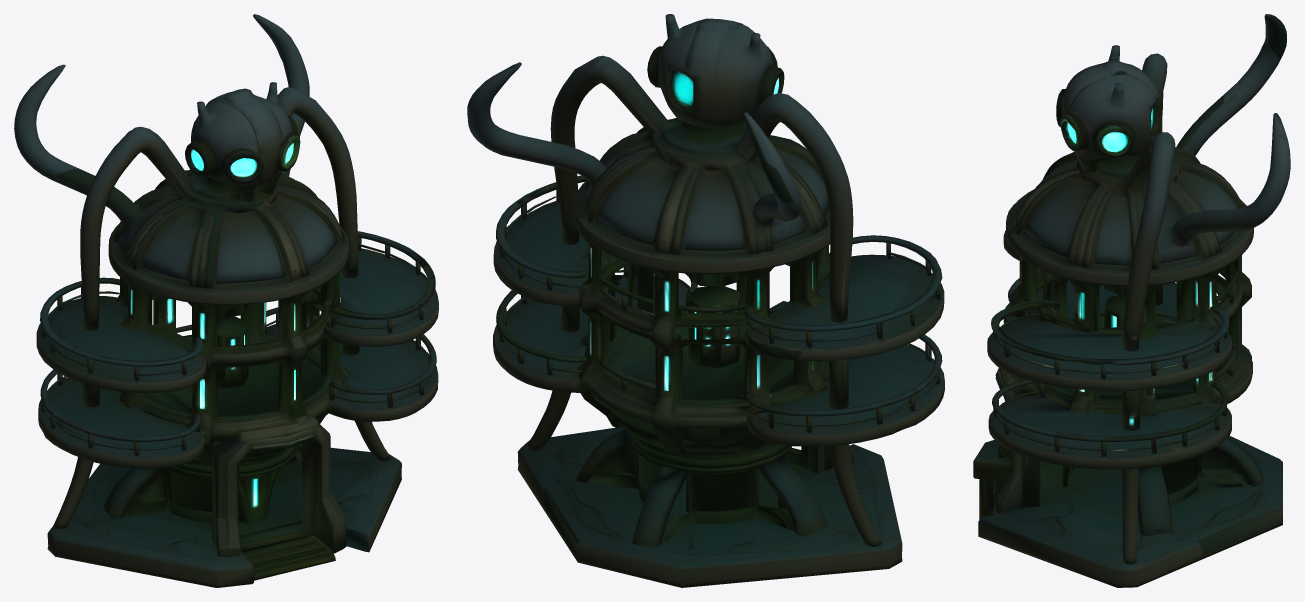
Rendered from VAL_EVIL_ALIEN_BASE_OS_MML_FINAL.glb.
The picture shows the model from 3 angles, left to right: view 1: azimuth 30°, elevation 25°; view 2: azimuth 150°, elevation 25°; view 3: azimuth 270°, elevation 25°; orthographic projection. The views are drawn at different scales.
Visible parts, largest first — view 1: material; view 2: material; view 3: material.
Part boxes in pixels (x1,y1,x2,y2): material: (14,14,438,587); material: (467,14,944,587); material: (973,14,1290,587).
Size of the model in its own units: 4.5 by 5 by 3.27.
Materials: 1 (1 with a texture image).
